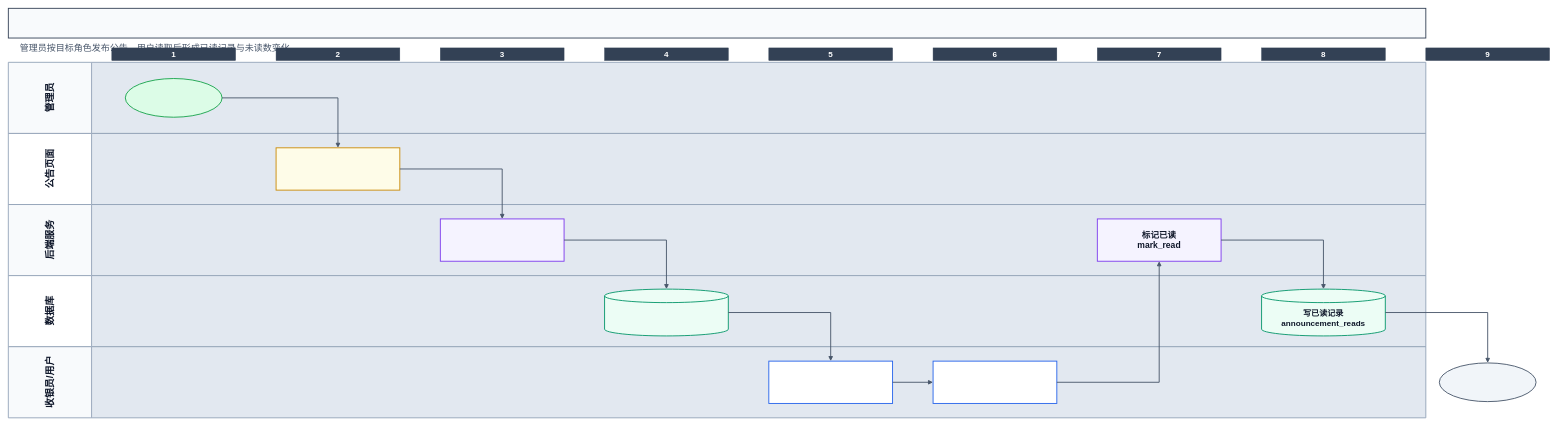
Image size: 1557x426. Some labels were removed from this diagram. The shapes that lost their labels are listed below. From the top down, each one's centre as x and y in pixels, then its label:
the point at 717,23: 公告发布与阅读泳道图
the point at 173,97: 编写公告 标题/内容/级别
the point at 337,168: 选择目标角色 发布/下线
the point at 502,239: 校验公告字段 create_announcement
the point at 666,312: 保存公告 announcements
the point at 830,382: 获取未读数 /unread-count
the point at 994,382: 打开公告中心 查看内容
the point at 1487,382: 未读数刷新 流程结束
